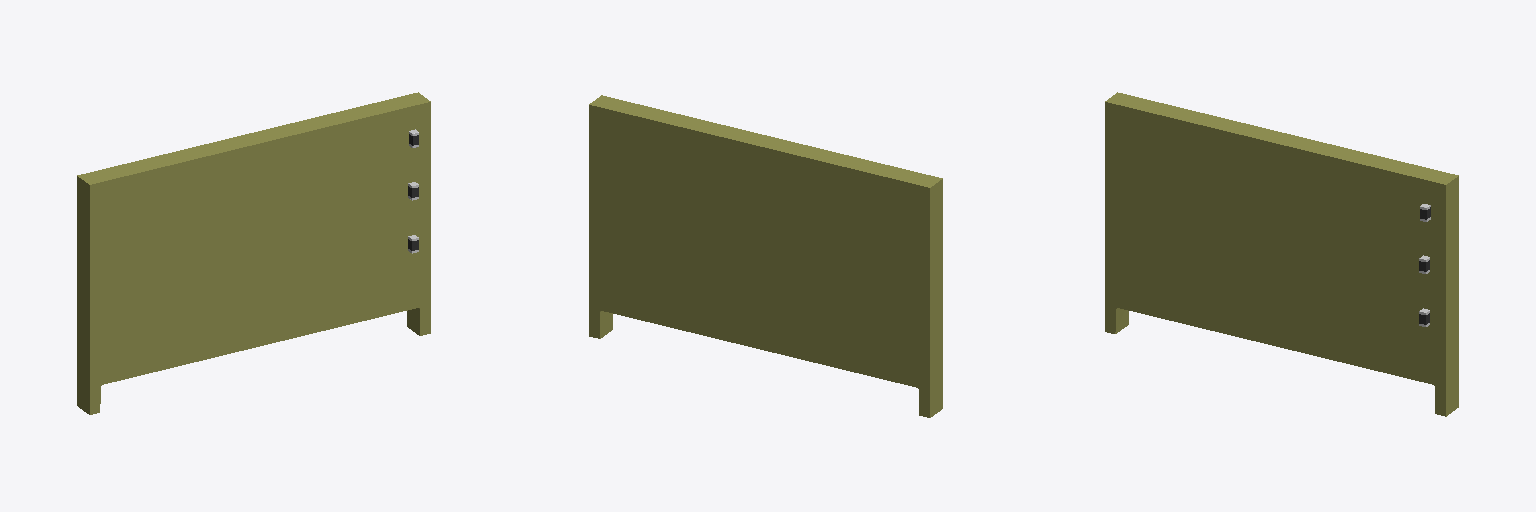
Rendered from OBJ_TopA.obj.
The picture shows the model from 3 angles: view 1: azimuth 30°, elevation 25°; view 2: azimuth 150°, elevation 25°; view 3: azimuth 330°, elevation 25°; orthographic projection.
Size of the model in its own units: 154 by 99.87 by 13.15.